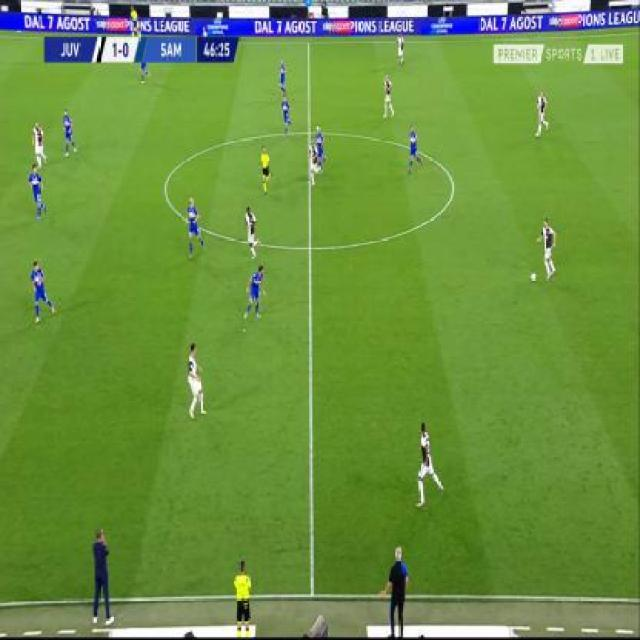ball: (530, 271, 538, 284)
player: (380, 547, 414, 636), (414, 421, 447, 510), (93, 523, 116, 628), (232, 553, 257, 639), (184, 342, 209, 424), (29, 260, 57, 323), (241, 266, 269, 323), (537, 219, 557, 290), (185, 198, 207, 261), (28, 166, 48, 223), (243, 207, 263, 258), (406, 124, 423, 178), (31, 120, 50, 168), (533, 87, 550, 138), (62, 109, 78, 160), (258, 146, 274, 197), (380, 72, 397, 120), (280, 96, 296, 142), (315, 126, 328, 177), (309, 137, 320, 188), (276, 58, 287, 98), (128, 6, 141, 37), (397, 31, 406, 67), (140, 61, 151, 86)
